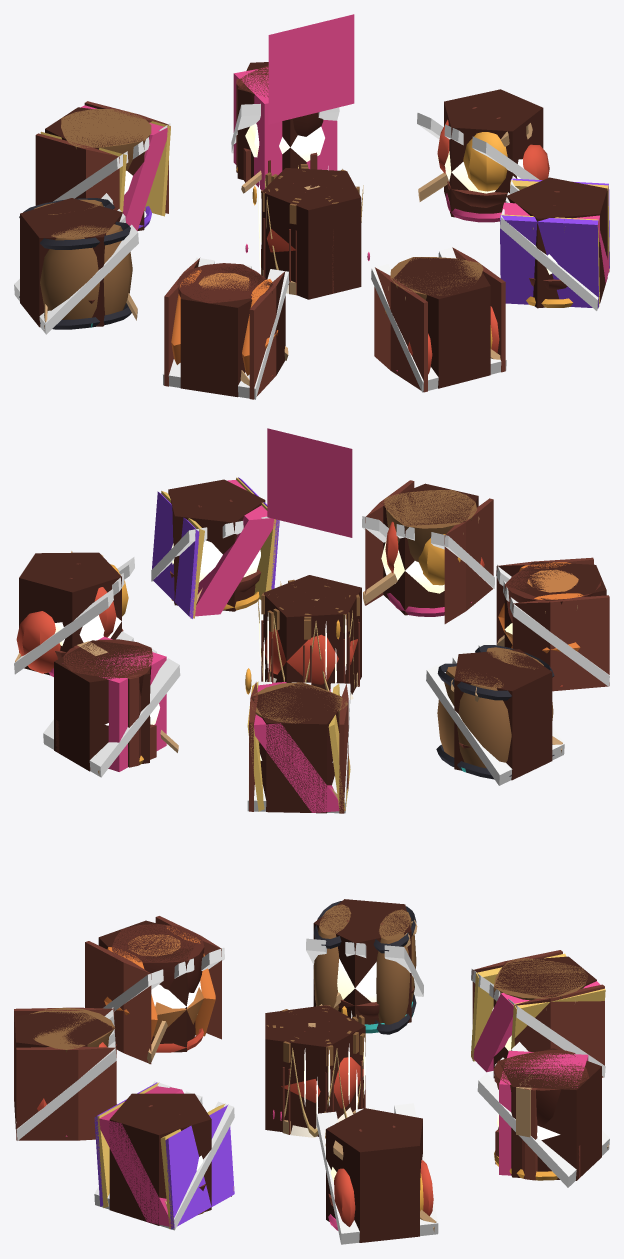
File: ile-marche.glb
3 views of the same model, one above another, from view 1: azimuth 30°, elevation 25°; view 2: azimuth 150°, elevation 25°; view 3: azimuth 270°, elevation 25° (orthographic).
Parts seen in each view (by area): view 1: marche_bateau5, marche_bateau4, marche_bateau3, marche_bateau6, marche_bateau2, marche_decor, marche_bateau0, marche_bateau1, marche_drapeau; view 2: marche_bateau5, marche_bateau6, marche_bateau3, marche_bateau1, marche_bateau2, marche_bateau4, marche_decor, marche_bateau0, marche_drapeau; view 3: marche_bateau6, marche_bateau4, marche_bateau1, marche_bateau0, marche_bateau5, marche_bateau2, marche_bateau3, marche_decor.
Part boxes in pixels (<box>): marche_bateau5: <box>371,246,506,392</box>; marche_bateau4: <box>163,257,289,399</box>; marche_bateau3: <box>14,193,138,334</box>; marche_bateau6: <box>500,176,609,310</box>; marche_bateau2: <box>35,101,170,231</box>; marche_decor: <box>245,164,369,299</box>; marche_bateau0: <box>417,89,549,222</box>; marche_bateau1: <box>231,62,339,193</box>; marche_drapeau: <box>268,14,354,124</box>; marche_bateau5: <box>362,480,494,623</box>; marche_bateau6: <box>151,477,279,618</box>; marche_bateau3: <box>426,639,564,785</box>; marche_bateau1: <box>43,631,180,777</box>; marche_bateau2: <box>247,681,350,813</box>; marche_bateau4: <box>496,557,609,691</box>; marche_decor: <box>245,575,361,699</box>; marche_bateau0: <box>14,551,134,676</box>; marche_drapeau: <box>267,428,352,537</box>; marche_bateau6: <box>94,1081,234,1230</box>; marche_bateau4: <box>85,916,224,1064</box>; marche_bateau1: <box>477,1042,609,1187</box>; marche_bateau0: <box>316,1103,438,1244</box>; marche_bateau5: <box>14,1007,116,1140</box>; marche_bateau2: <box>471,950,605,1078</box>; marche_bateau3: <box>306,899,423,1034</box>; marche_decor: <box>265,1005,365,1137</box>.
Size of the model in its own units: 12.14 by 5.6 by 11.9.
